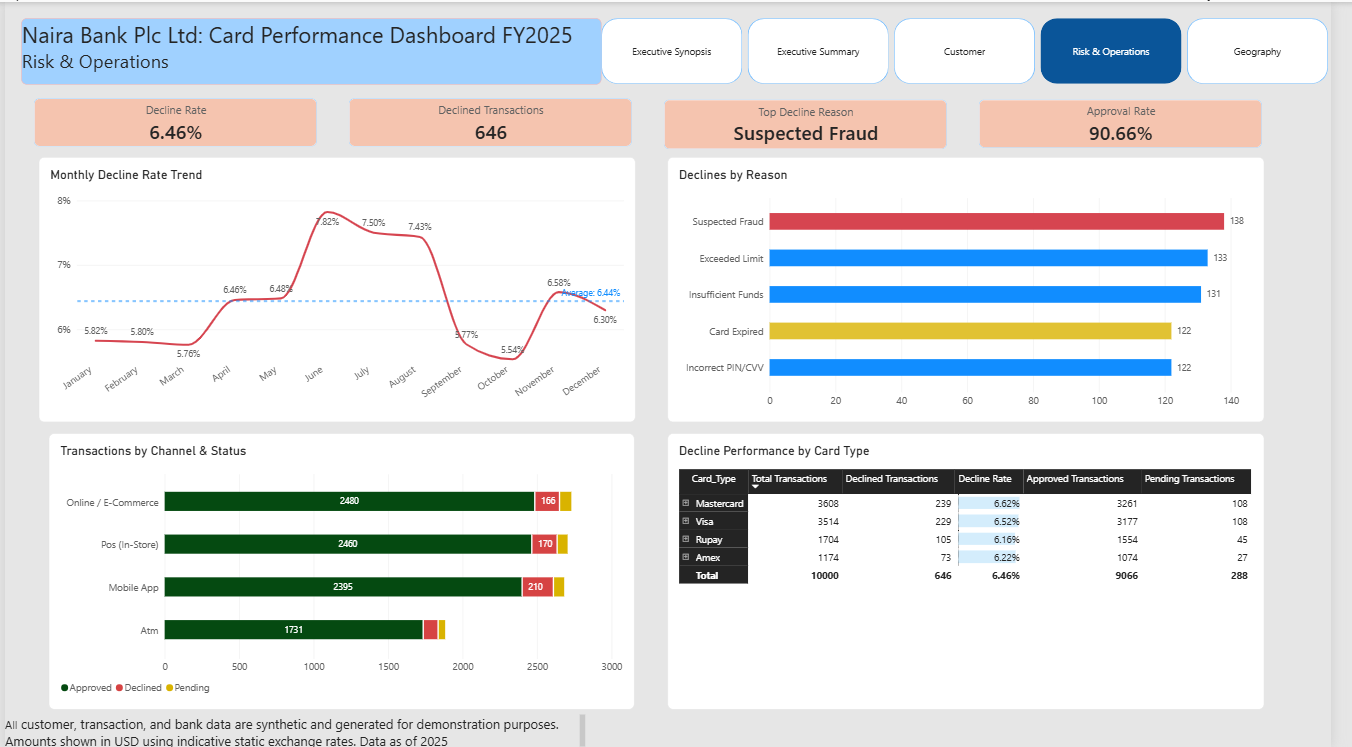

This screenshot's page, from the dashboard's own definition file:
{"tool":"powerbi","page":{"name":"Risk & Operations","canvas":[1920,1080],"ordinal":3},"visuals":[{"type":"textbox","box":[24,24,840,96],"z":0},{"type":"pageNavigator","box":[864,24,1056,96],"z":1000},{"type":"textbox","box":[0,1032,840,48],"z":2000},{"type":"cardVisual","fields":{"Data":["_Measures.Decline Rate"]},"box":[41.3,138.5,410,70],"z":7000},{"type":"cardVisual","fields":{"Data":["_Measures.Declined Transactions"]},"box":[497.3,138.5,410,70],"z":8000},{"type":"cardVisual","fields":{"Data":["_Measures.Top Decline Reason"]},"box":[953.1,141.5,410,72],"z":9000},{"type":"cardVisual","fields":{"Data":["_Measures.Approval Rate"]},"box":[1409.1,141.5,410,70],"z":10000},{"type":"lineChart","title":"Monthly Decline Rate Trend","fields":{"Y":["_Measures.Decline Rate"],"Category":["Dim_Date.MonthName"]},"box":[48,224,864,384],"z":11000},{"type":"barChart","title":"Declines by Reason","fields":{"Y":["_Measures.Declined Transactions"],"Category":["Fact_Transactions.Decline_Reason"]},"box":[960,224,864,384],"z":12000},{"type":"barChart","title":"Transactions by Channel & Status","fields":{"Category":["Fact_Transactions.Channel"],"Y":["_Measures.Total Transactions"],"Series":["Fact_Transactions.Transaction_Status"]},"box":[64,624,848,400],"z":13000},{"type":"pivotTable","title":"Decline Performance by Card Type","fields":{"Rows":["Dim_BIN_Info.Card_Type","Dim_BIN_Info.BIN_Number"],"Values":["_Measures.Total Transactions","_Measures.Declined Transactions","_Measures.Decline Rate","_Measures.Approved Transactions","_Measures.Pending Transactions"]},"box":[960,624,864,400],"z":14000}]}

Visuals, with their boxes in screenshot pixels (x1, y1, x2, y2), scaled from the page's 1920x1080 canvas onto the 1352x747 screenshot:
textbox: 17,17,608,83
pageNavigator: 608,17,1351,83
textbox: 0,714,592,746
cardVisual - _Measures.Decline Rate: 29,96,318,144
cardVisual - _Measures.Declined Transactions: 350,96,639,144
cardVisual - _Measures.Top Decline Reason: 671,98,960,148
cardVisual - _Measures.Approval Rate: 992,98,1281,146
"Monthly Decline Rate Trend" lineChart: 34,155,642,421
"Declines by Reason" barChart: 676,155,1284,421
"Transactions by Channel & Status" barChart: 45,432,642,708
"Decline Performance by Card Type" pivotTable: 676,432,1284,708
